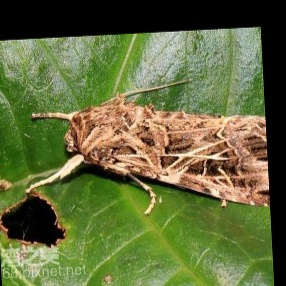Spodoptera litura: (23, 80, 267, 215)
